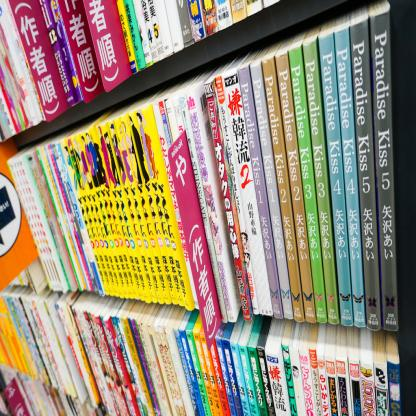book: (4, 0, 387, 343), (0, 282, 401, 416), (0, 0, 280, 141)
